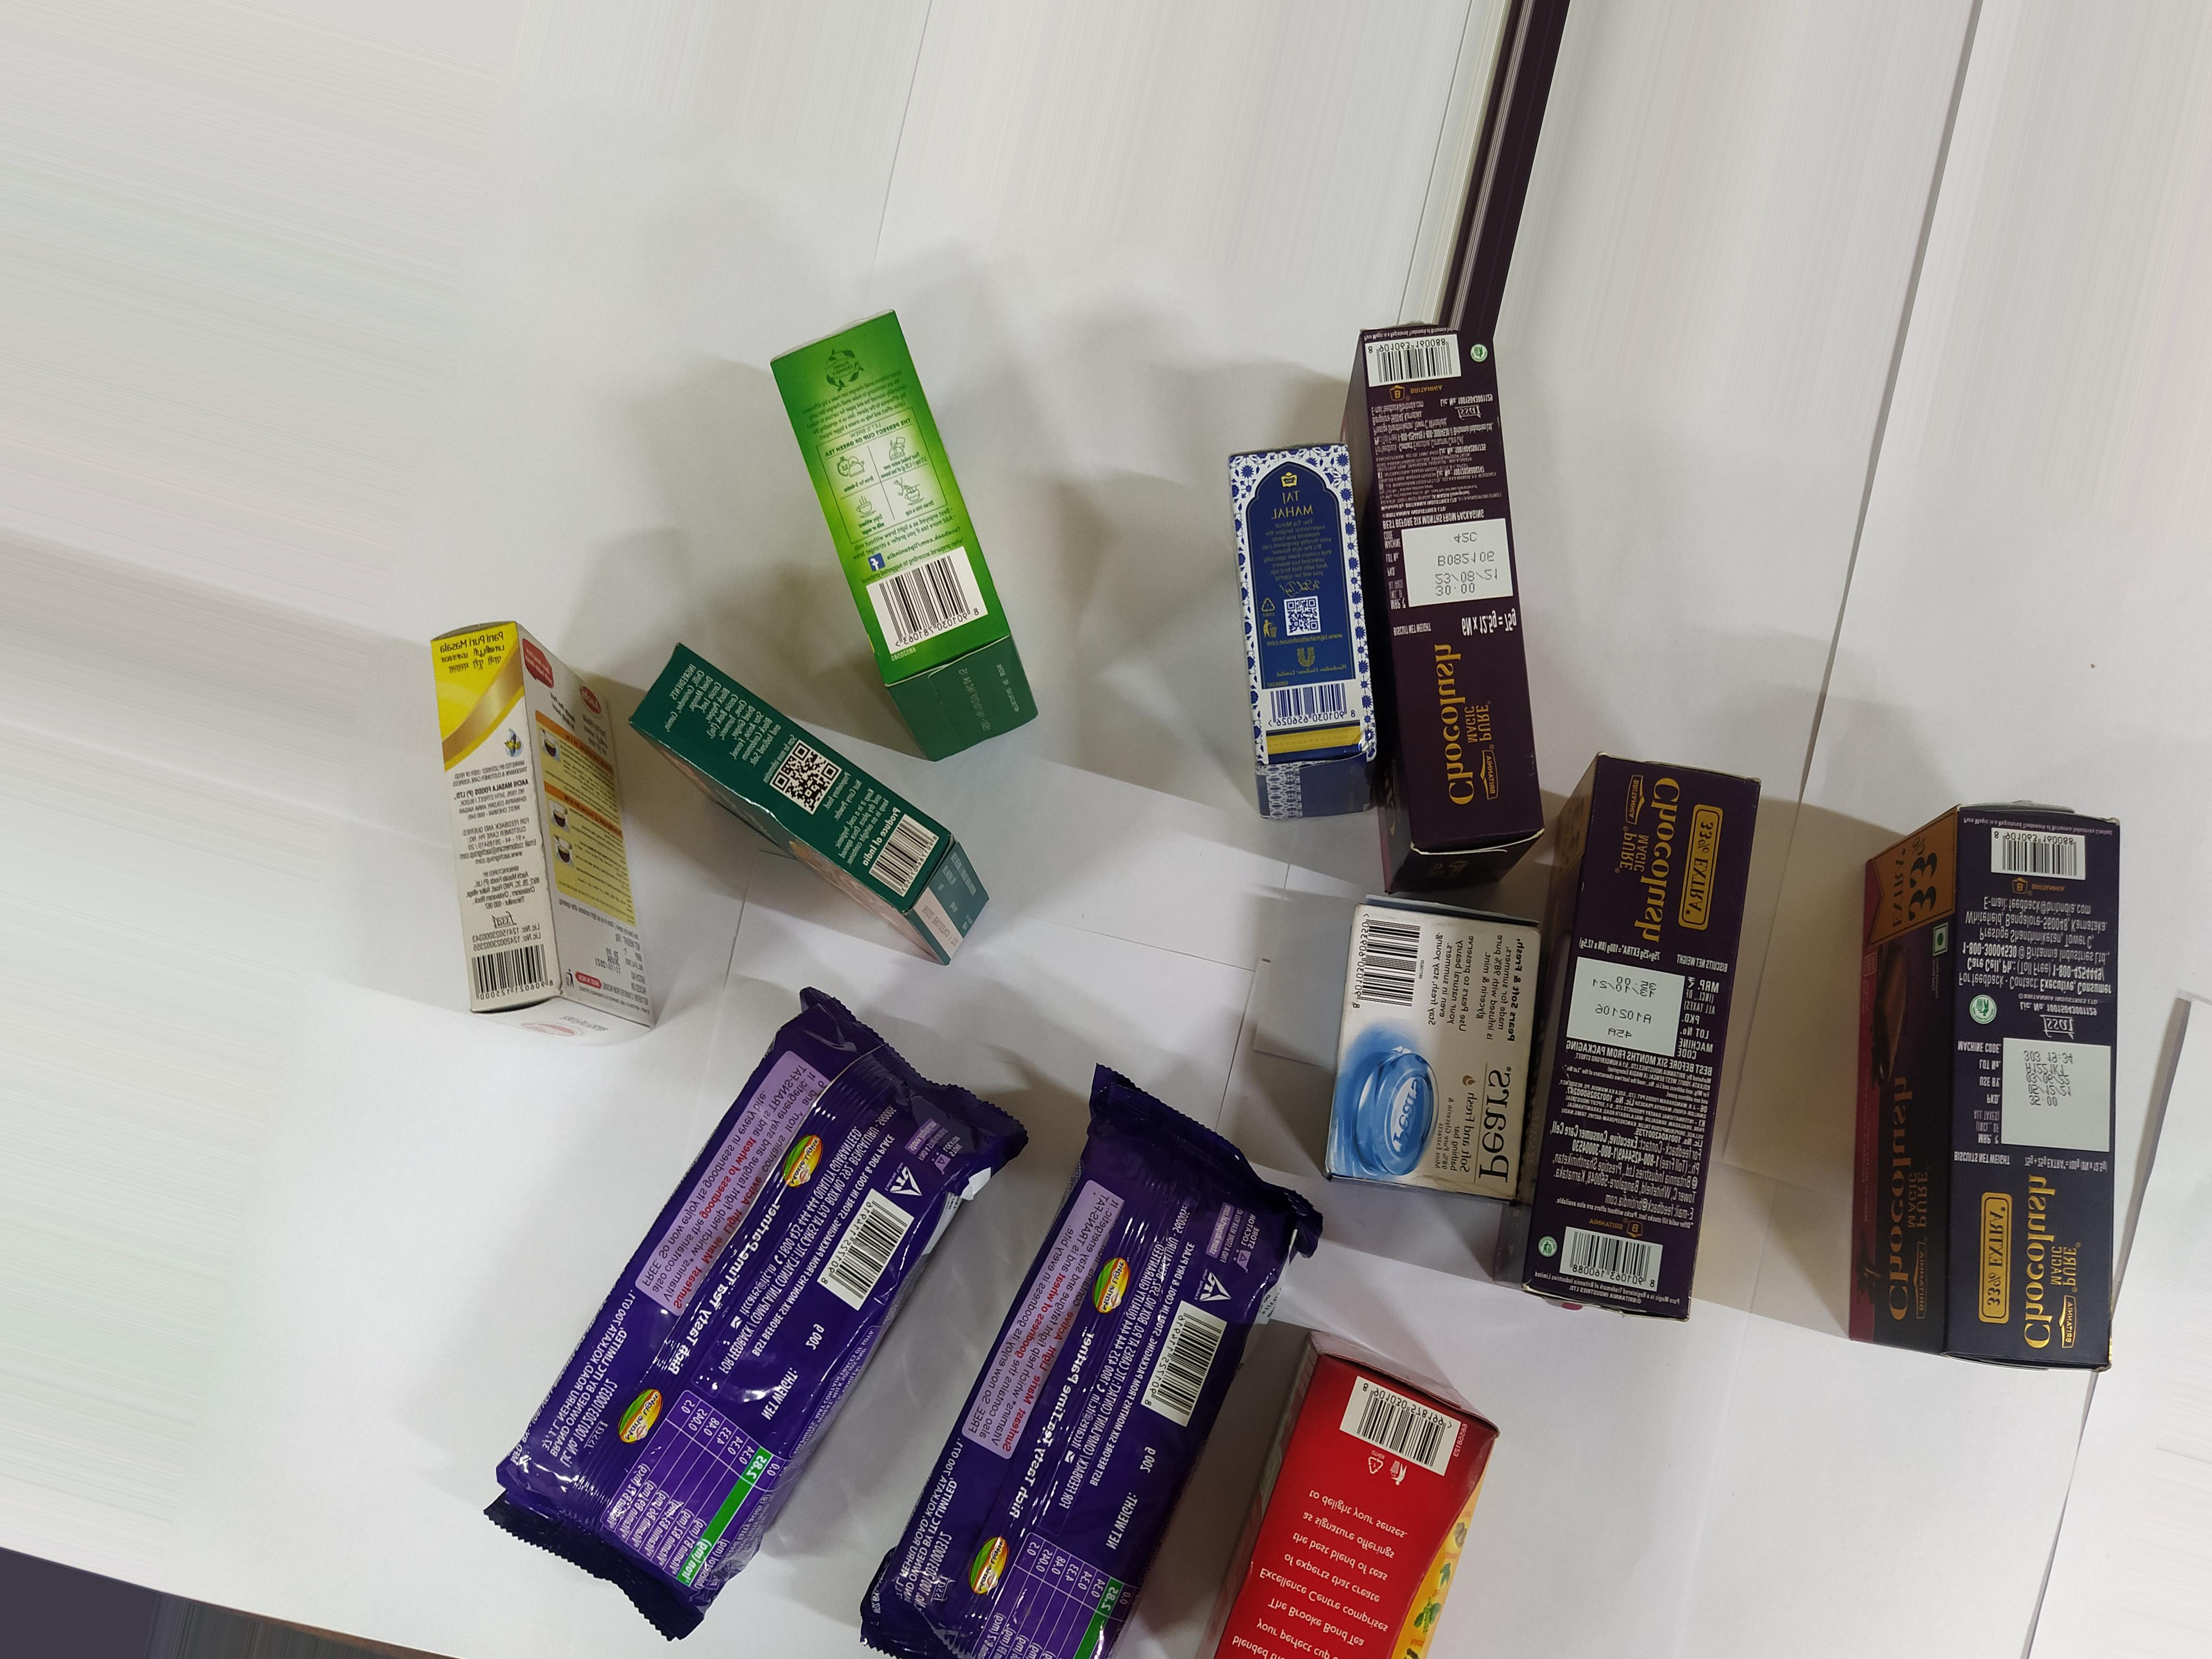Bar_code: (1332, 1364, 1493, 1518), (1132, 1283, 1230, 1446), (813, 1180, 920, 1326), (862, 544, 996, 657), (1979, 814, 2118, 897), (864, 796, 942, 917), (1559, 1213, 1669, 1297), (1355, 901, 1428, 1012), (467, 936, 573, 1006), (1259, 676, 1383, 735), (1359, 331, 1468, 394)
Item: (502, 969, 928, 1598), (1838, 765, 2172, 1408), (951, 1079, 1287, 1659), (618, 629, 1057, 985), (758, 295, 1076, 751), (1338, 322, 1569, 910), (1547, 748, 1768, 1347), (378, 605, 667, 1058), (1238, 1337, 1545, 1659), (1212, 425, 1390, 821)
QR_code: (775, 741, 841, 814), (1273, 584, 1327, 650)
